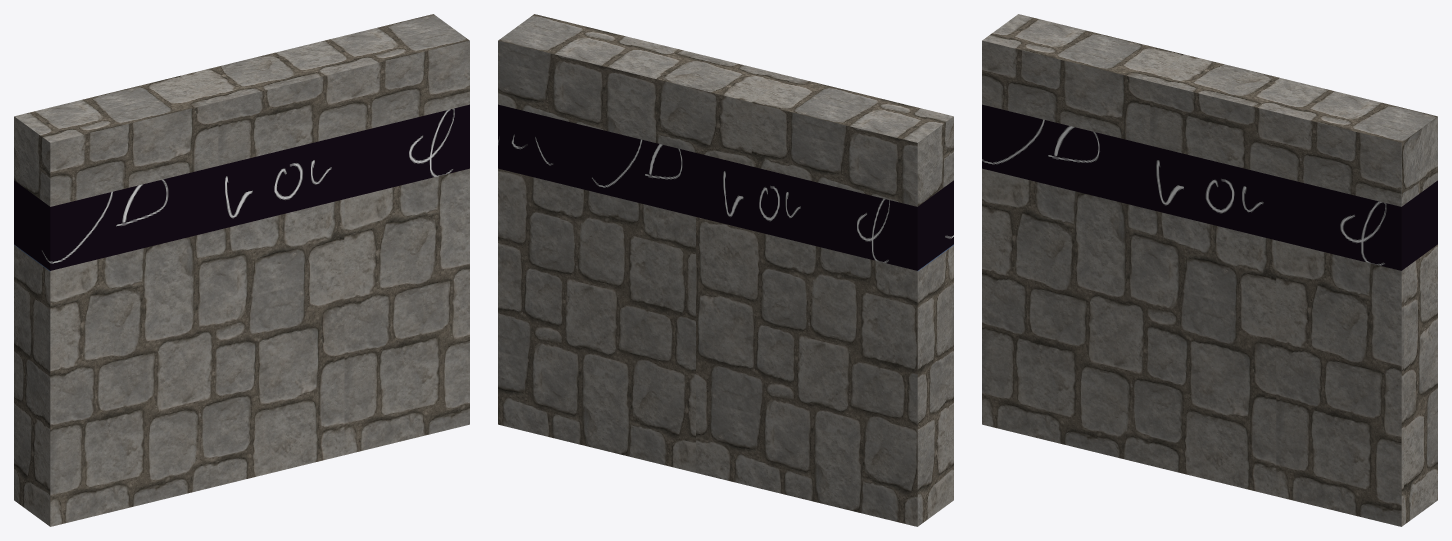
The model's file is Horma.obj.
3 views of the same model, side by side, from view 1: azimuth 30°, elevation 25°; view 2: azimuth 150°, elevation 25°; view 3: azimuth 330°, elevation 25° (orthographic).
Parts seen in each view (by area): view 1: Horma_OBJ; view 2: Horma_OBJ; view 3: Horma_OBJ.
Boxes of the visible parts, bbox=[...] form: Horma_OBJ: bbox=[14, 14, 469, 526]; Horma_OBJ: bbox=[498, 14, 953, 526]; Horma_OBJ: bbox=[982, 14, 1437, 526].
Size of the model in its own units: 4 by 3.5 by 0.6.
